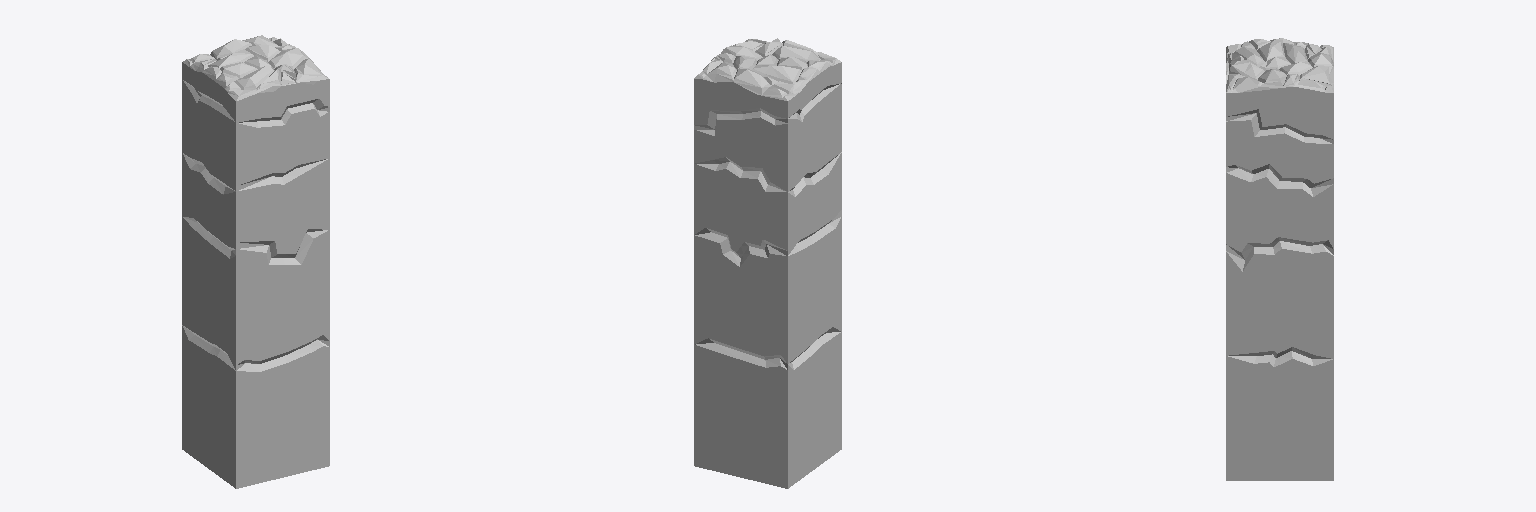
File: steinmauer.obj
3 views of the same model, side by side, from view 1: azimuth 30°, elevation 25°; view 2: azimuth 150°, elevation 25°; view 3: azimuth 270°, elevation 25° (orthographic).
Visible parts, largest first — view 1: steinmauer; view 2: steinmauer; view 3: steinmauer.
Boxes of the visible parts, box(x1,y1,x2,y2) form: steinmauer: box(182, 35, 329, 488); steinmauer: box(694, 38, 841, 488); steinmauer: box(1226, 38, 1333, 480).
Bounding box in the file's own units: 0.5 × 2.06 × 0.5.